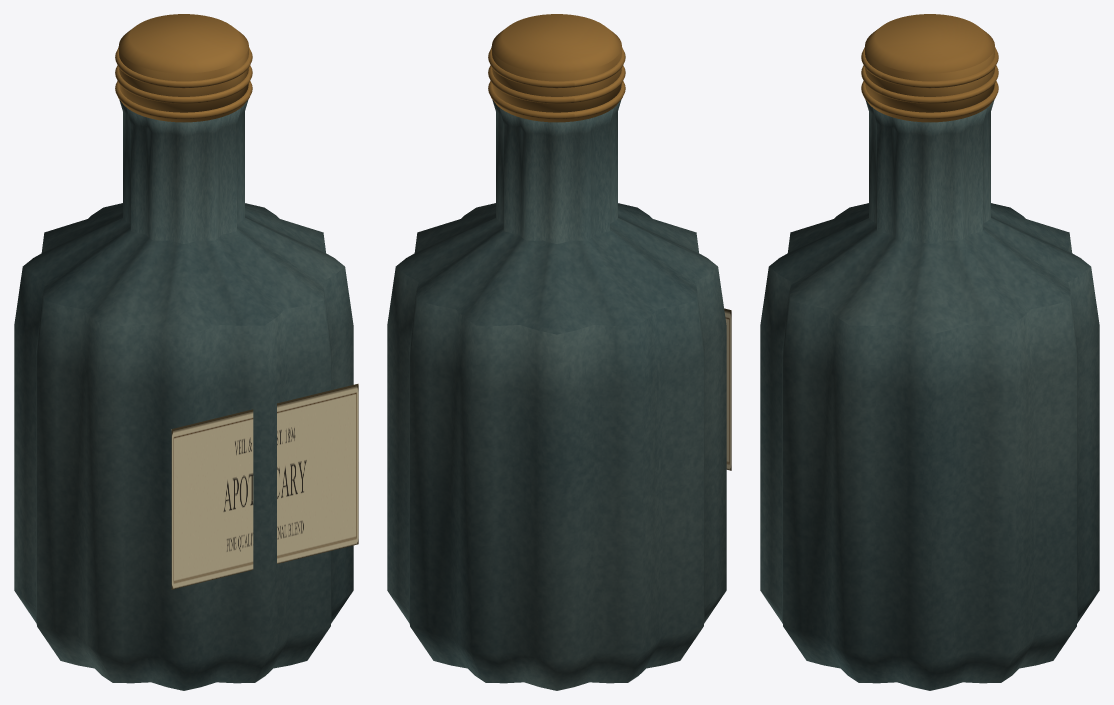
Rendered from Perfume.fbx.
The picture shows the model from 3 angles, left to right: view 1: azimuth 30°, elevation 25°; view 2: azimuth 150°, elevation 25°; view 3: azimuth 270°, elevation 25°; orthographic projection.
Parts seen in each view (by area): view 1: Perfume_GlassPatina, Perfume_Decals, Perfume_Brass; view 2: Perfume_GlassPatina, Perfume_Brass, Perfume_Decals; view 3: Perfume_GlassPatina, Perfume_Brass.
Part boxes in pixels (left/top/right/bottom): Perfume_GlassPatina: left=14, top=99, right=353, bottom=690; Perfume_Decals: left=171, top=383, right=358, bottom=589; Perfume_Brass: left=115, top=14, right=252, bottom=122; Perfume_GlassPatina: left=387, top=99, right=726, bottom=690; Perfume_Brass: left=488, top=14, right=625, bottom=122; Perfume_Decals: left=724, top=308, right=731, bottom=470; Perfume_GlassPatina: left=760, top=99, right=1099, bottom=690; Perfume_Brass: left=861, top=14, right=998, bottom=122.
Bounding box in the file's own units: 13.78 × 26.6 × 13.78.
